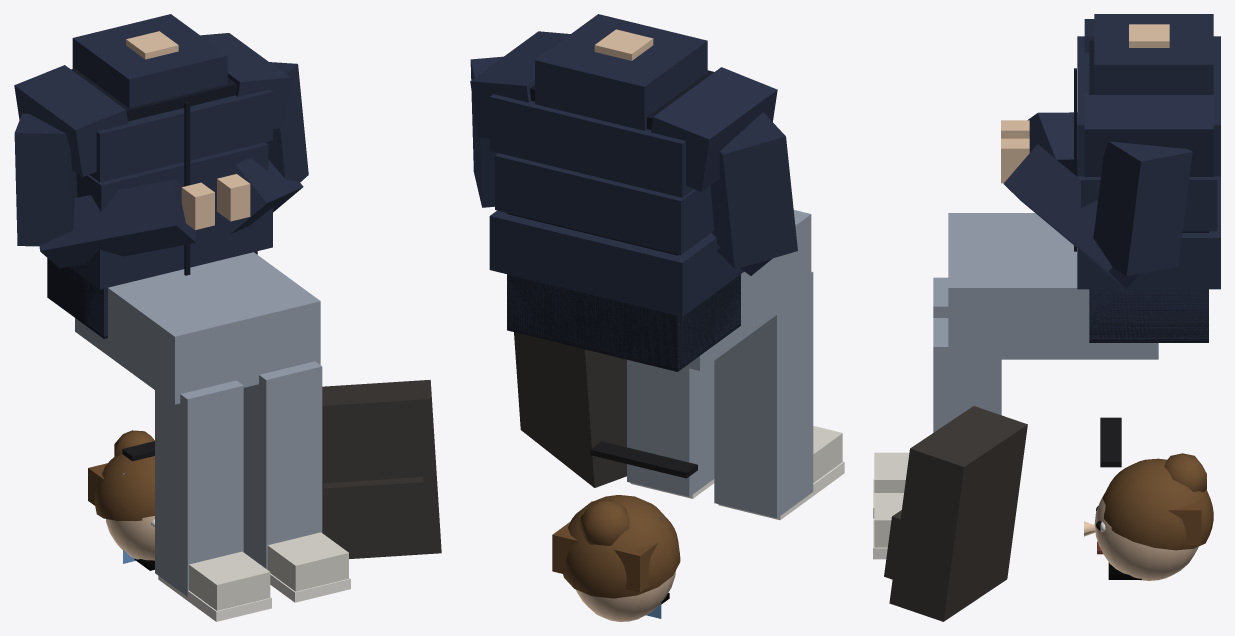
The model's file is passenger_texter_seated.fbx.
3 renders of one model, left to right at view 1: azimuth 30°, elevation 25°; view 2: azimuth 150°, elevation 25°; view 3: azimuth 270°, elevation 25°, orthographic. The views are drawn at different scales.
Visible parts, largest first — view 1: Mesh_13, Mesh_14, Mesh_17, Mesh_15, Mesh_12, Mesh_9, Body_Skin, Mesh_16, Head_Skin; view 2: Mesh_13, Mesh_14, Mesh_12, Mesh_17, Mesh_9, Head_Skin, Mesh_0, Mesh_15, Body_Skin, Mesh_16; view 3: Mesh_13, Mesh_14, Mesh_17, Mesh_9, Mesh_12, Head_Skin, Mesh_15, Body_Skin, Mesh_0.
Boxes of the visible parts, bbox=[...] form: Mesh_13: bbox=[14, 14, 308, 336]; Mesh_14: bbox=[75, 252, 322, 596]; Mesh_17: bbox=[322, 379, 441, 558]; Mesh_15: bbox=[189, 532, 348, 610]; Mesh_12: bbox=[47, 68, 257, 338]; Mesh_9: bbox=[88, 430, 154, 521]; Body_Skin: bbox=[126, 31, 250, 229]; Mesh_16: bbox=[158, 573, 350, 621]; Head_Skin: bbox=[106, 516, 154, 560]; Mesh_13: bbox=[470, 14, 797, 367]; Mesh_14: bbox=[627, 210, 813, 518]; Mesh_12: bbox=[507, 70, 740, 371]; Mesh_17: bbox=[514, 332, 626, 487]; Mesh_9: bbox=[552, 495, 680, 598]; Head_Skin: bbox=[576, 571, 675, 621]; Mesh_0: bbox=[590, 441, 697, 478]; Mesh_15: bbox=[813, 426, 842, 482]; Body_Skin: bbox=[594, 29, 653, 60]; Mesh_16: bbox=[630, 461, 844, 520]; Mesh_13: bbox=[1003, 14, 1220, 340]; Mesh_14: bbox=[933, 213, 1158, 432]; Mesh_17: bbox=[884, 406, 1027, 621]; Mesh_9: bbox=[1102, 453, 1213, 550]; Mesh_12: bbox=[1074, 40, 1208, 342]; Head_Skin: bbox=[1084, 493, 1198, 580]; Mesh_15: bbox=[874, 452, 909, 547]; Body_Skin: bbox=[1001, 24, 1169, 183]; Mesh_0: bbox=[1100, 417, 1121, 467].
Size of the model in its own units: 0.8543 by 1.26 by 0.7275.
